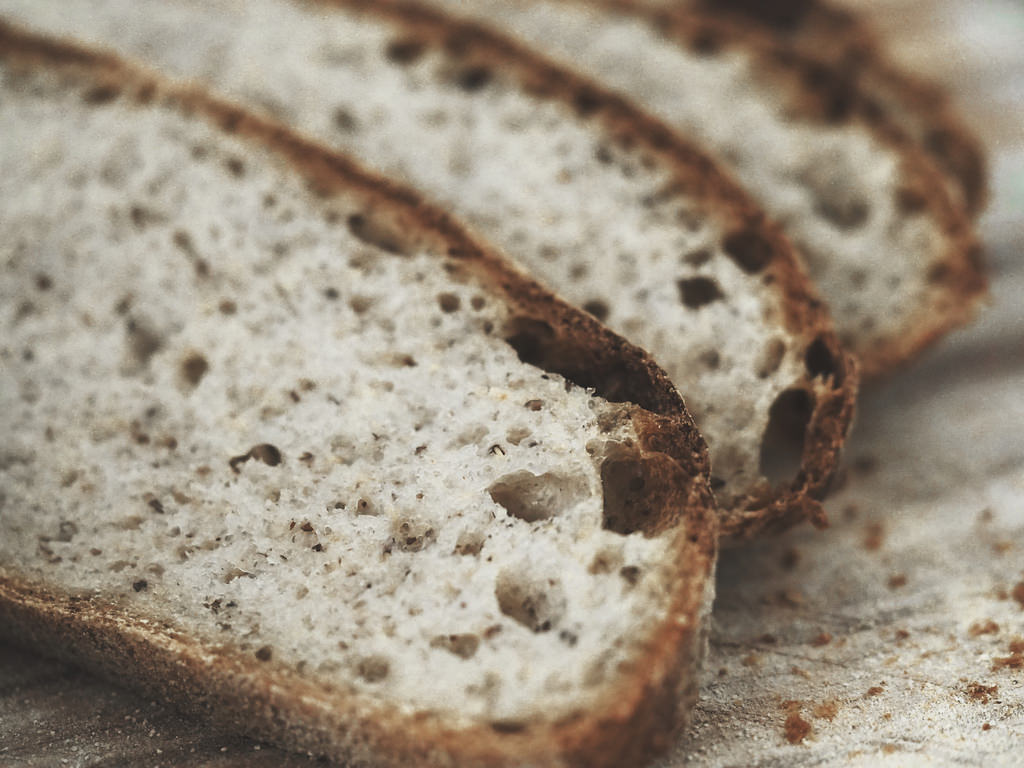slice of bread: (27, 40, 722, 753)
